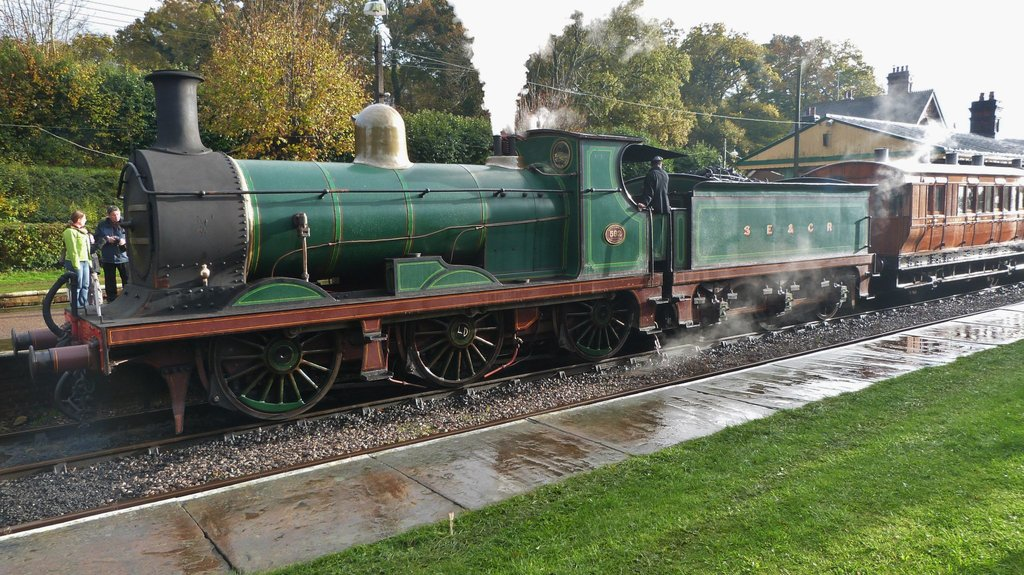Wheel: (188, 323, 335, 409), (405, 311, 504, 389), (555, 296, 634, 360), (686, 328, 719, 342), (811, 303, 838, 319), (756, 316, 785, 330), (987, 275, 1001, 287)
